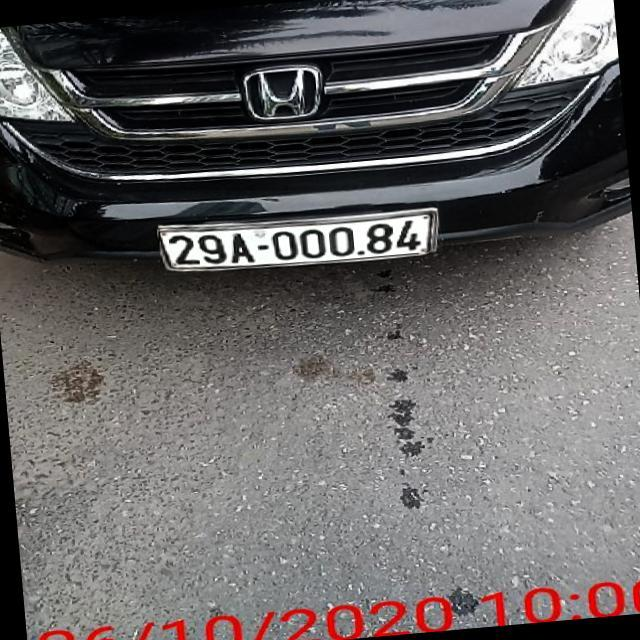car: (0, 2, 640, 291)
plate: (151, 205, 444, 274)
